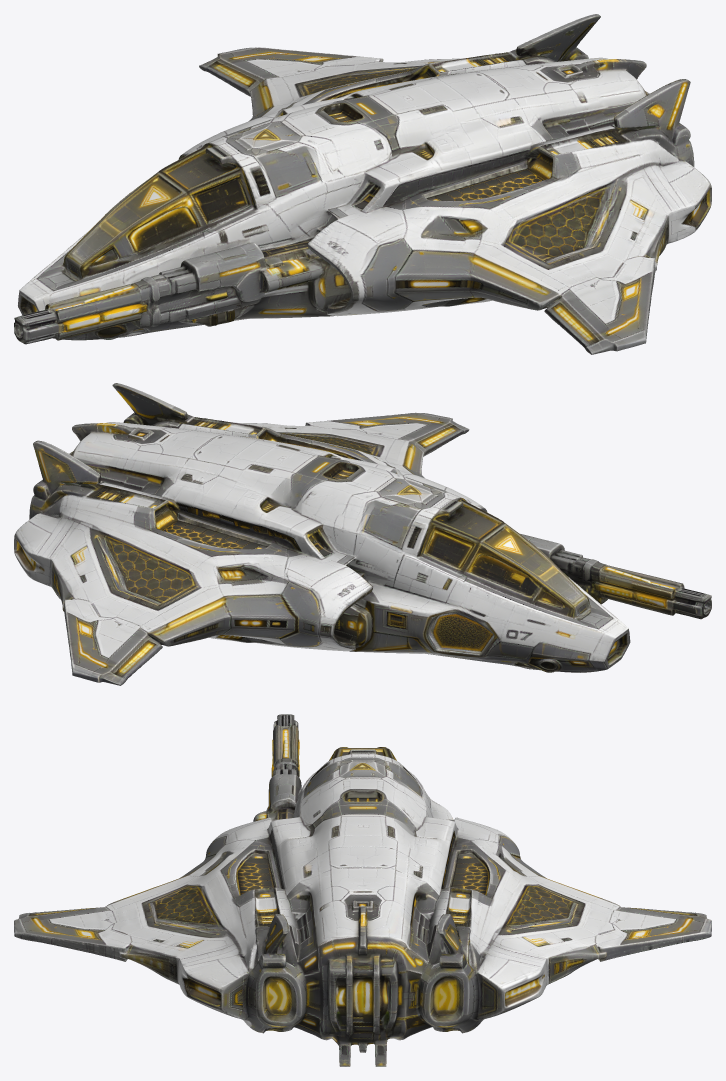
File: Meshy_AI_Sniper_Class_Space_Fi_0625034459_image-to-3d-texture.glb
The picture shows the model from 3 angles, top to bottom: view 1: azimuth 30°, elevation 25°; view 2: azimuth 150°, elevation 25°; view 3: azimuth 270°, elevation 25°; orthographic projection. The views are drawn at different scales.
Size of the model in its own units: 1.85 by 0.461 by 1.9.
Materials: 1 (1 with a texture image).
